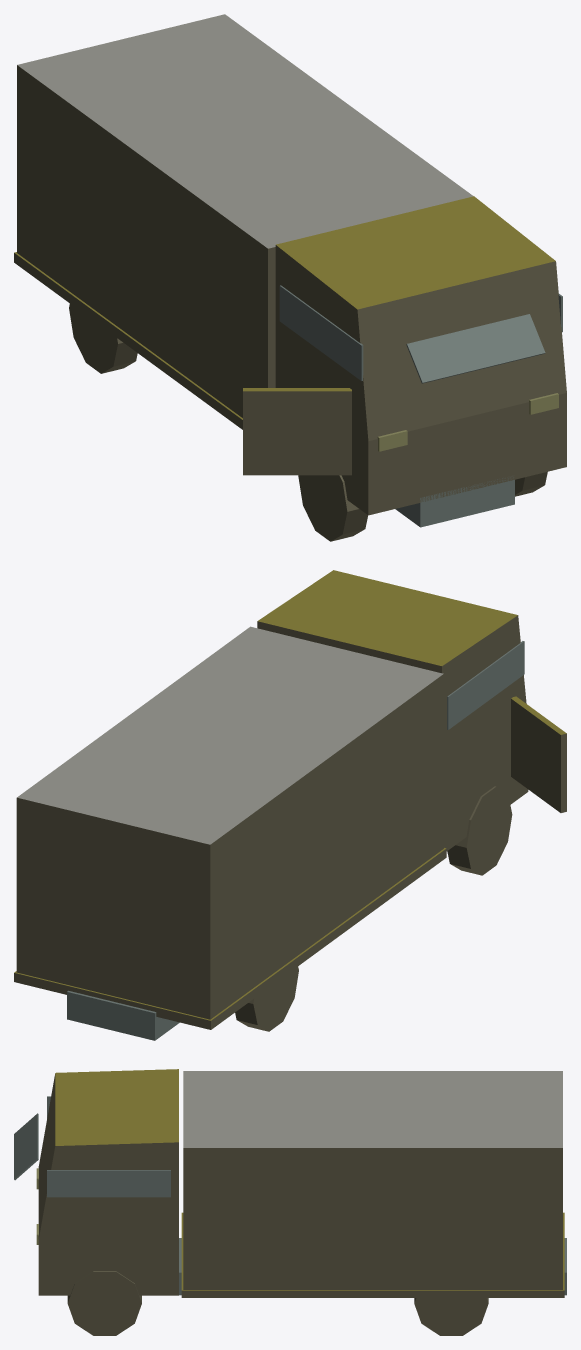
Rendered from SM_CocheCivil_Camion_v1_LOD0.fbx.
3 views of the same model, one above another, from view 1: azimuth 30°, elevation 25°; view 2: azimuth 150°, elevation 25°; view 3: azimuth 270°, elevation 25° (orthographic). The views are drawn at different scales.
Parts seen in each view (by area): view 1: SM_coche_civil_v21_LOD0; view 2: SM_coche_civil_v21_LOD0; view 3: SM_coche_civil_v21_LOD0.
Boxes of the visible parts, <box> form: SM_coche_civil_v21_LOD0: <box>14,14,566,541</box>; SM_coche_civil_v21_LOD0: <box>14,570,566,1040</box>; SM_coche_civil_v21_LOD0: <box>14,1069,566,1335</box>.
Bounding box in the file's own units: 3.05 × 2.58 × 6.7.
